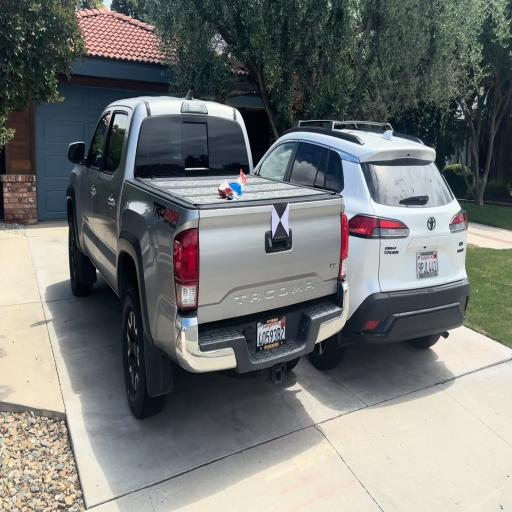target: (272, 204, 289, 236)
